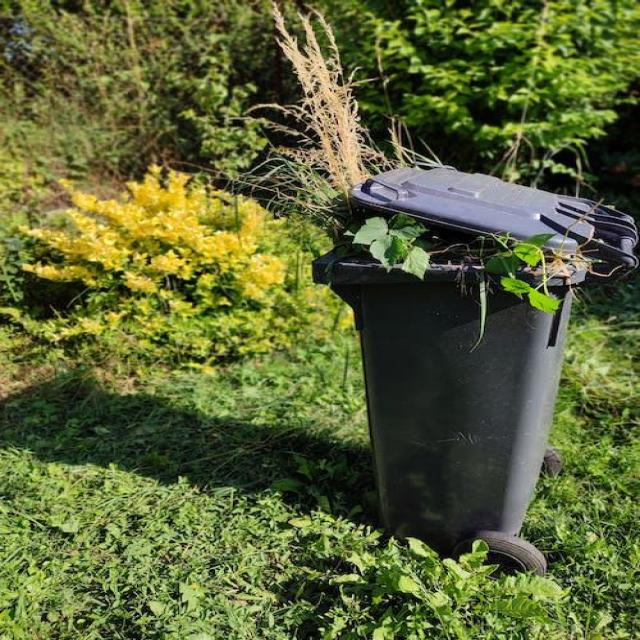plastic: (398, 375, 533, 548)
